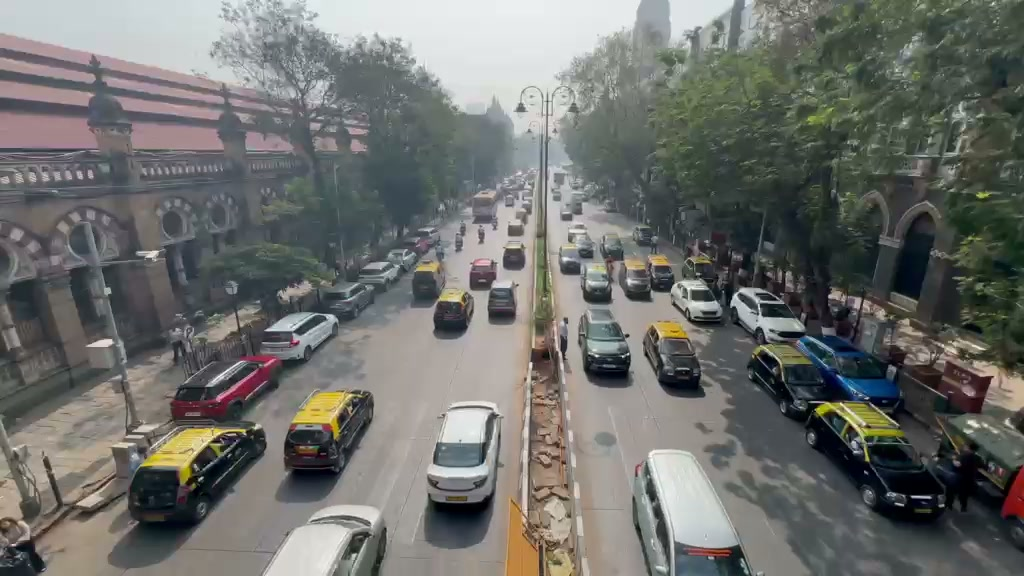bus: (630, 448, 753, 575)
car: (127, 424, 268, 525), (746, 339, 861, 422), (261, 503, 389, 576), (797, 333, 904, 414), (424, 401, 503, 510), (283, 388, 376, 475), (170, 353, 283, 421), (936, 412, 1024, 492), (256, 311, 339, 364), (730, 287, 808, 342), (642, 319, 703, 389), (577, 309, 633, 377), (670, 278, 724, 324), (317, 279, 375, 321), (999, 463, 1024, 551), (432, 286, 474, 333), (486, 281, 518, 324), (579, 263, 612, 303), (358, 258, 401, 288), (467, 257, 497, 291), (385, 247, 418, 273)
truck: (803, 399, 950, 520), (469, 189, 498, 226)
